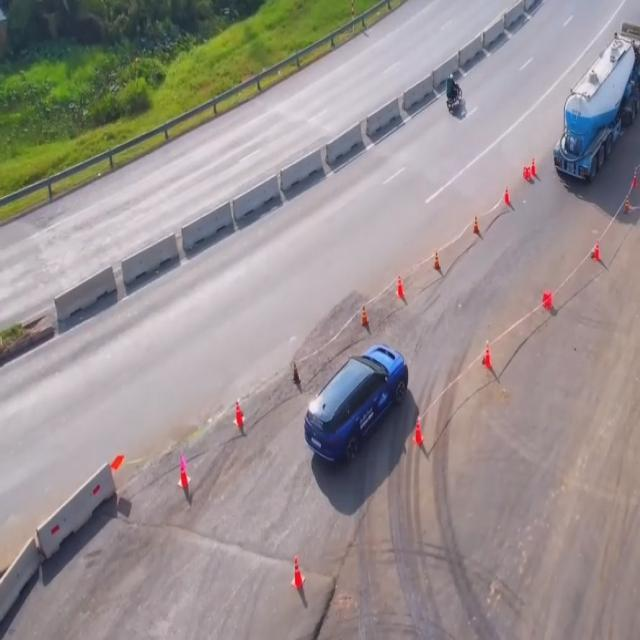car: (304, 343, 419, 472)
motorbike: (445, 72, 464, 114)
truck: (555, 17, 640, 192)
